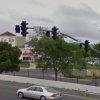Traffic light: (10, 14, 100, 59)
